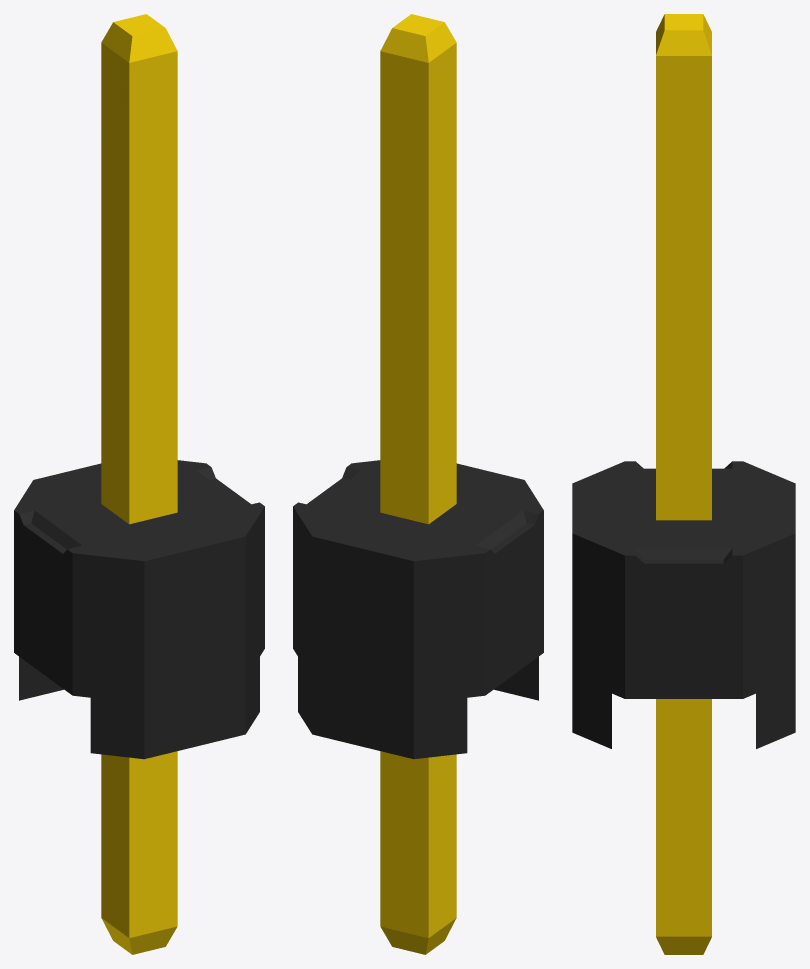
Rendered from PLS1.glb.
The picture shows the model from 3 angles, left to right: view 1: azimuth 30°, elevation 25°; view 2: azimuth 150°, elevation 25°; view 3: azimuth 270°, elevation 25°; orthographic projection.
Parts seen in each view (by area): view 1: PLS (DS1021 CONNFLY); view 2: PLS (DS1021 CONNFLY); view 3: PLS (DS1021 CONNFLY).
Boxes of the visible parts, left/top/right/bottom form: PLS (DS1021 CONNFLY): left=14, top=14, right=264, bottom=954; PLS (DS1021 CONNFLY): left=293, top=14, right=543, bottom=954; PLS (DS1021 CONNFLY): left=572, top=14, right=795, bottom=954.
Bounding box in the file's own units: 0.00254 × 0.0116 × 0.00254.
